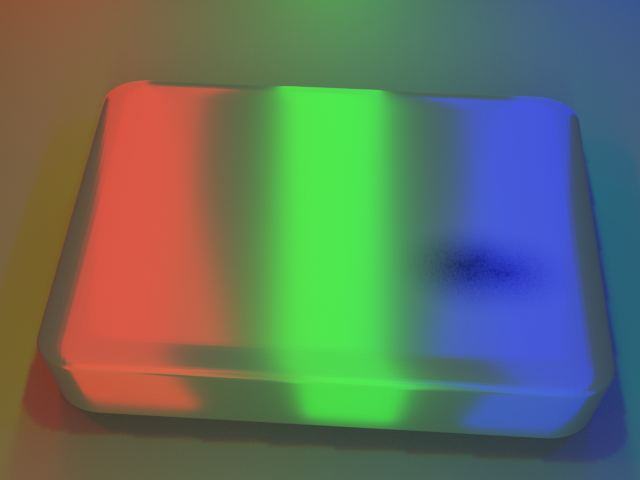stain: (381, 207, 621, 346)
